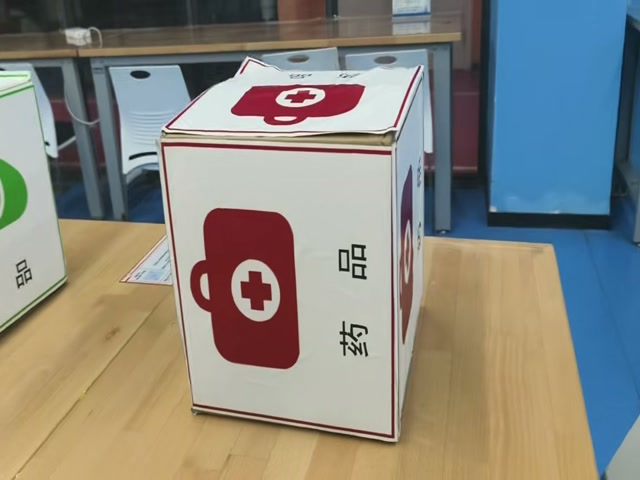Cube_medicine: (161, 64, 428, 151)
